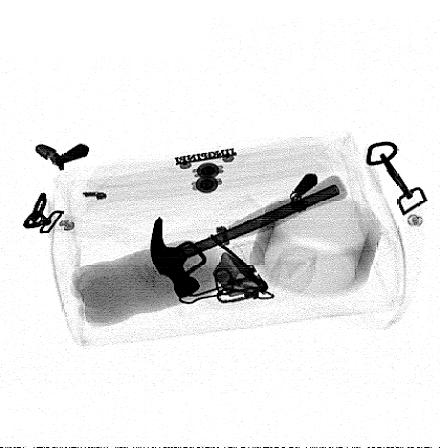Hammer: (149, 175, 348, 298)
